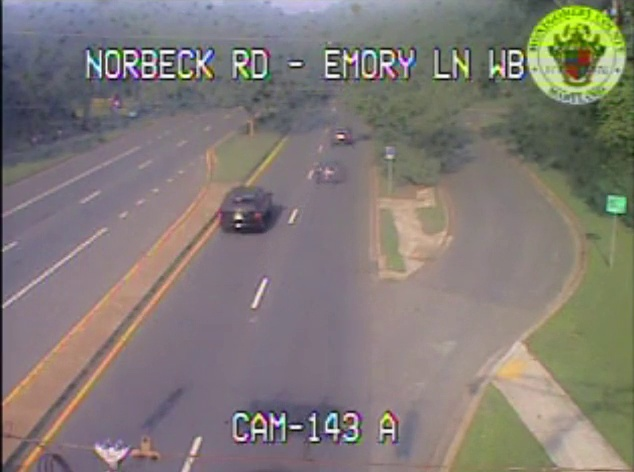car: (219, 188, 271, 232)
